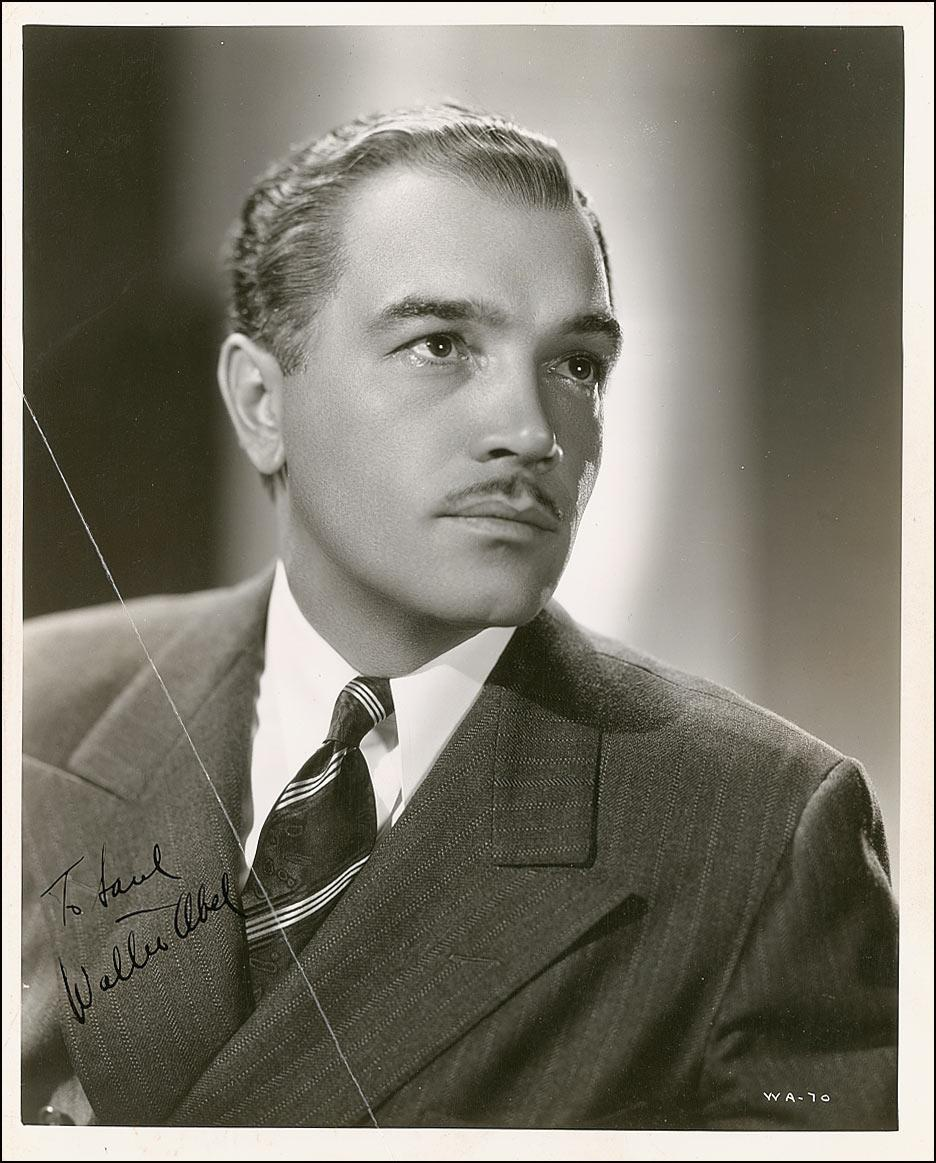bad: (290, 204, 675, 590)
